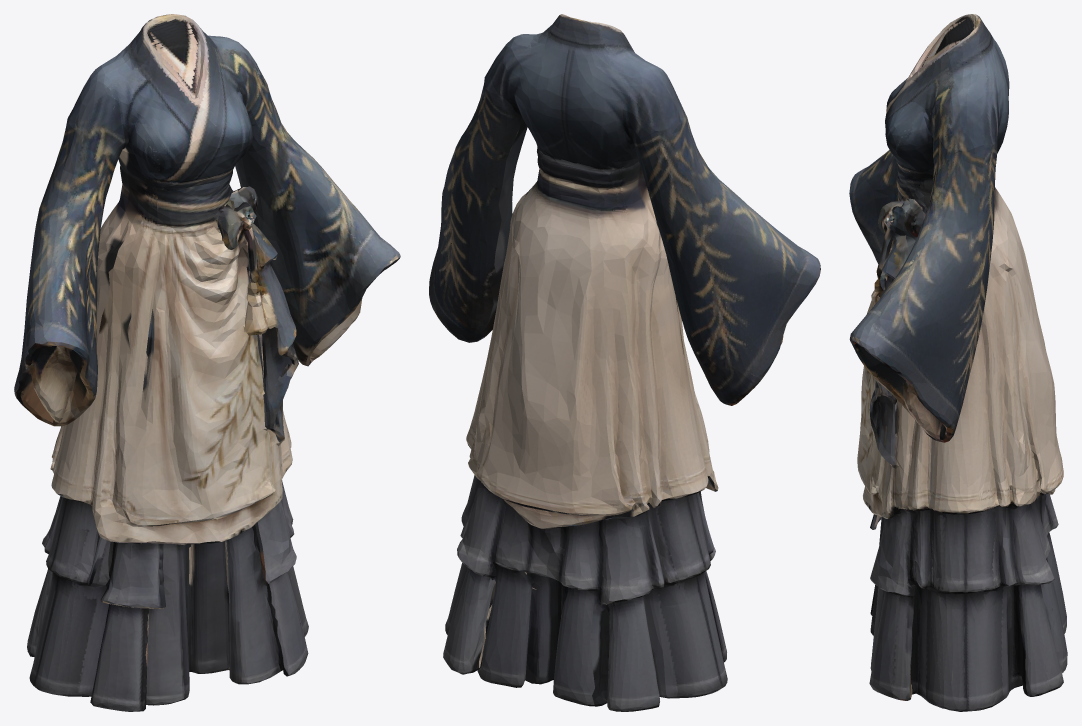
File: mitsue_maid_source.glb
3 renders of one model, left to right at view 1: azimuth 30°, elevation 25°; view 2: azimuth 150°, elevation 25°; view 3: azimuth 270°, elevation 25°, orthographic. The views are drawn at different scales.
Parts seen in each view (by area): view 1: temp_mesh.ply; view 2: temp_mesh.ply; view 3: temp_mesh.ply.
Part boxes in pixels (bbox=[...]): temp_mesh.ply: bbox=[14, 14, 400, 711]; temp_mesh.ply: bbox=[429, 14, 820, 711]; temp_mesh.ply: bbox=[849, 14, 1067, 711].
Size of the model in its own units: 1.19 by 1.97 by 0.6174.
1 material, 1 textured.
